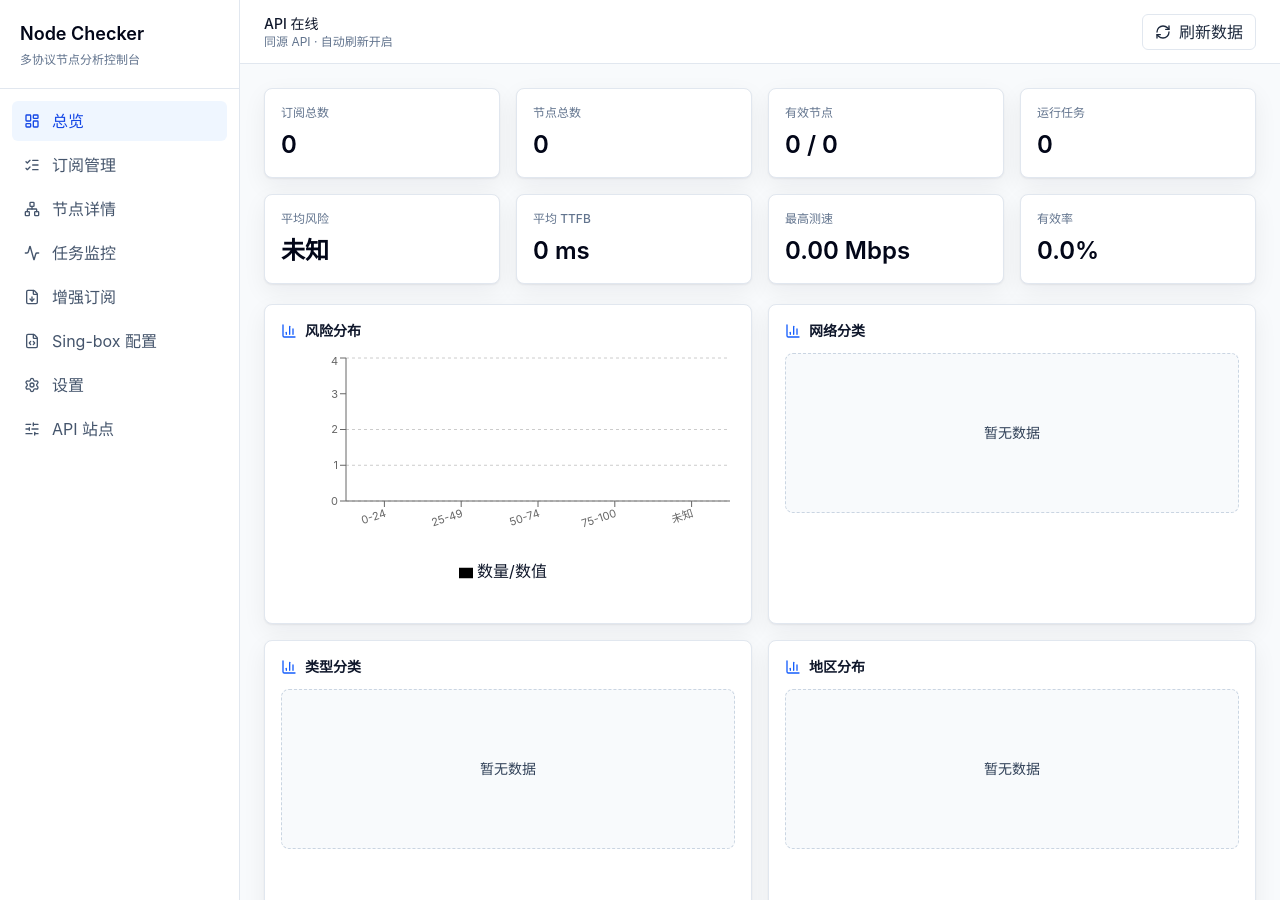
Test: App › opens the API sites page
This screenshot has width=1280, height=900.
Click the button "API 站点" at (120, 429), box top-left (12, 409), bottom-right (227, 449)
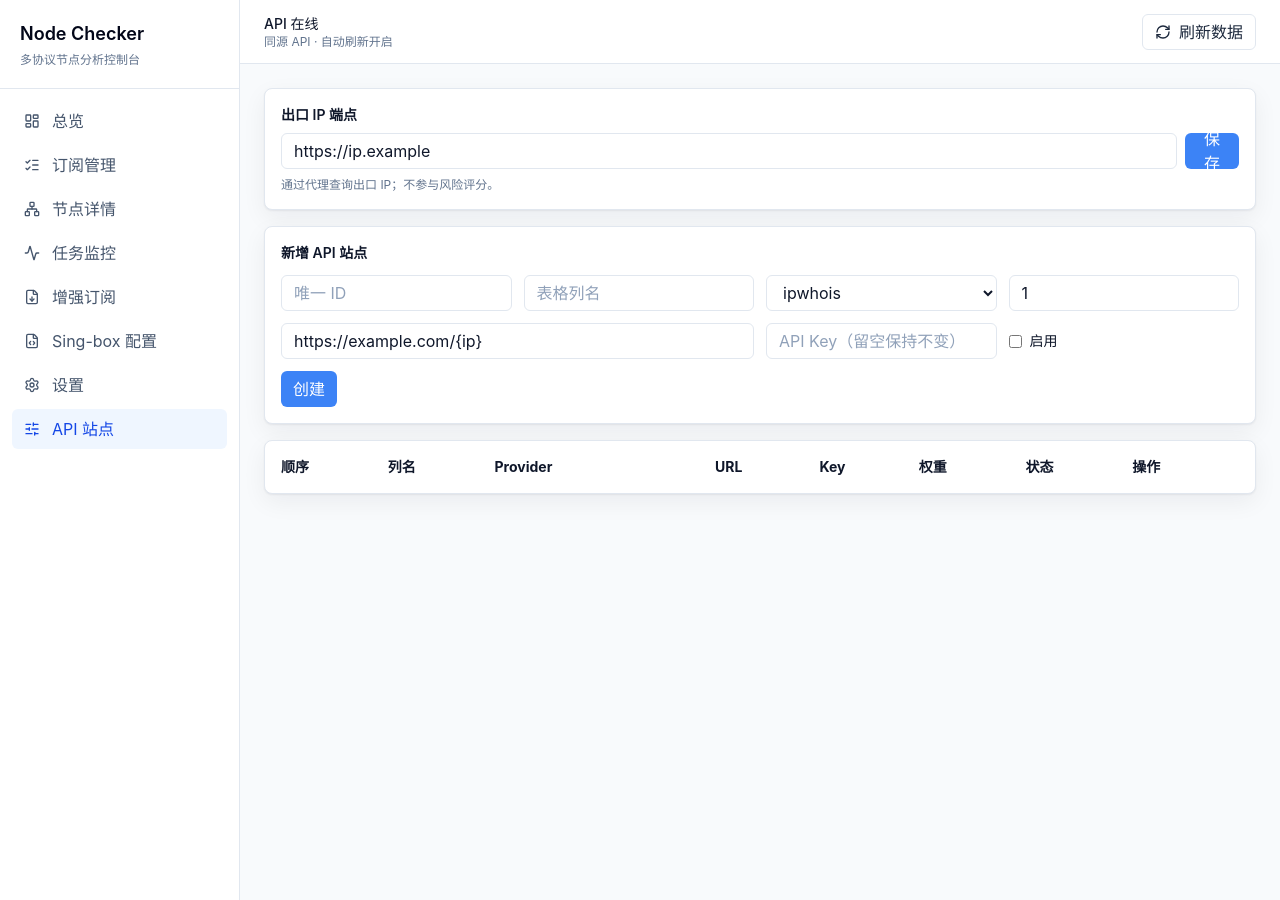
expect the field showing "https://ip.example" below "出口 IP 端点" is shown: met, box top-left (281, 133), bottom-right (1177, 169)
